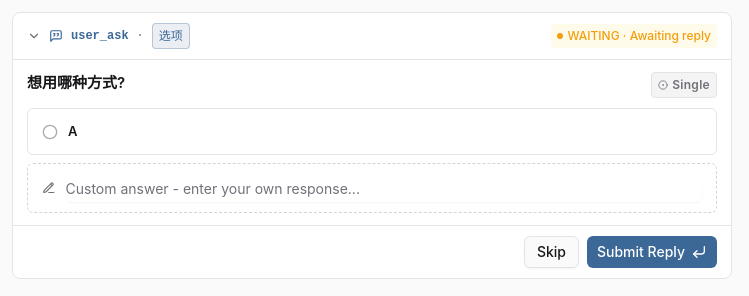
Test: UserAskCard › Given an expanded card, When collapsed, Then the body stays mounted through the collapse transition and unmounts after it ends
This screenshot has width=749, height=296.
Check: the text "想用哪种方式?" is shown, box [27,73,125,92]
Click the button "user_ask · 选项 WAITING · Awaiting reply" at point(100, 36), box [13,13,731,60]
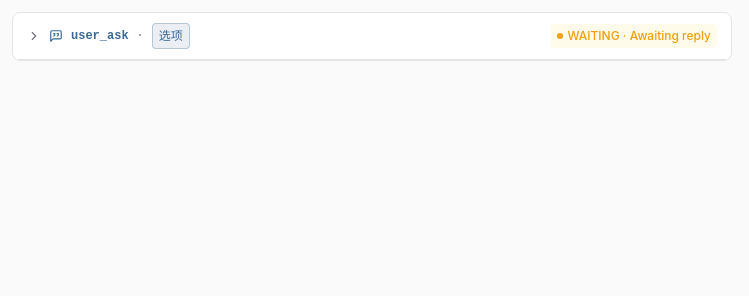
Check: the button is collapsed, box [13,13,731,60]
